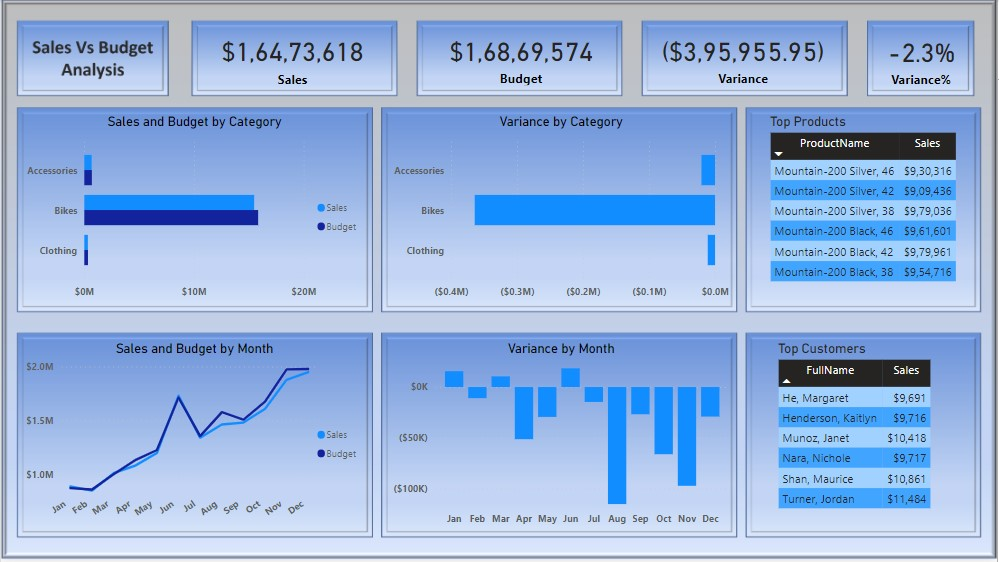

What the dashboard file says about the page in this screenshot:
{"tool":"powerbi","page":{"name":"Sales and Budget","canvas":[1280,720],"ordinal":0},"visuals":[{"type":"clusteredBarChart","fields":{"Y":["Sales.Sales","Budget.Budget"],"Category":["Product.Category","Product.SubCategory"]},"box":[27.3,147.9,443.6,245.7],"z":1000},{"type":"tableEx","title":"Top Products","fields":{"Values":["Product.ProductName","Sales.Sales"]},"box":[983.1,147.8,268.6,245.5],"z":2000},{"type":"tableEx","title":"Top Customers","fields":{"Values":["Customer.FullName","Sales.Sales"]},"box":[993.4,439.5,248,245.5],"z":3000},{"type":"card","fields":{"Values":["Budget.Variance%"]},"box":[1122.7,36.4,119.4,80.8],"z":4000},{"type":"card","fields":{"Values":["Budget.Variance"]},"box":[830.3,35.3,246.8,80.8],"z":5000},{"type":"card","fields":{"Values":["Budget.Budget"]},"box":[544.8,35.3,247,80.8],"z":6000},{"type":"card","fields":{"Values":["Sales.Sales"]},"box":[250.2,35.3,248,81.9],"z":7000},{"type":"clusteredBarChart","fields":{"Category":["Product.Category","Product.SubCategory"],"Y":["Budget.Variance"]},"box":[498.2,147.9,442.5,245.7],"z":8000},{"type":"lineChart","fields":{"Y":["Sales.Sales","Budget.Budget"],"Category":["Calendar.Month"]},"box":[27.3,439.1,443.6,245.7],"z":9000},{"type":"clusteredColumnChart","fields":{"Category":["Calendar.Month"],"Y":["Budget.Variance"]},"box":[498.2,439.1,442.5,245.7],"z":10000}]}

Visuals, with their boxes in screenshot pixels (x1, y1, x2, y2), scaled from the page's 1280x720 canvas onto the 999x562 screenshot:
clusteredBarChart - Sales.Sales x Budget.Budget: pyautogui.locateOnScreen(21, 115, 368, 307)
"Top Products" tableEx: pyautogui.locateOnScreen(767, 115, 977, 307)
"Top Customers" tableEx: pyautogui.locateOnScreen(775, 343, 969, 535)
card - Budget.Variance%: pyautogui.locateOnScreen(876, 28, 969, 91)
card - Budget.Variance: pyautogui.locateOnScreen(648, 28, 841, 91)
card - Budget.Budget: pyautogui.locateOnScreen(425, 28, 618, 91)
card - Sales.Sales: pyautogui.locateOnScreen(195, 28, 389, 91)
clusteredBarChart - Product.Category x Product.SubCategory: pyautogui.locateOnScreen(389, 115, 734, 307)
lineChart - Sales.Sales x Budget.Budget: pyautogui.locateOnScreen(21, 343, 368, 535)
clusteredColumnChart - Calendar.Month x Budget.Variance: pyautogui.locateOnScreen(389, 343, 734, 535)
